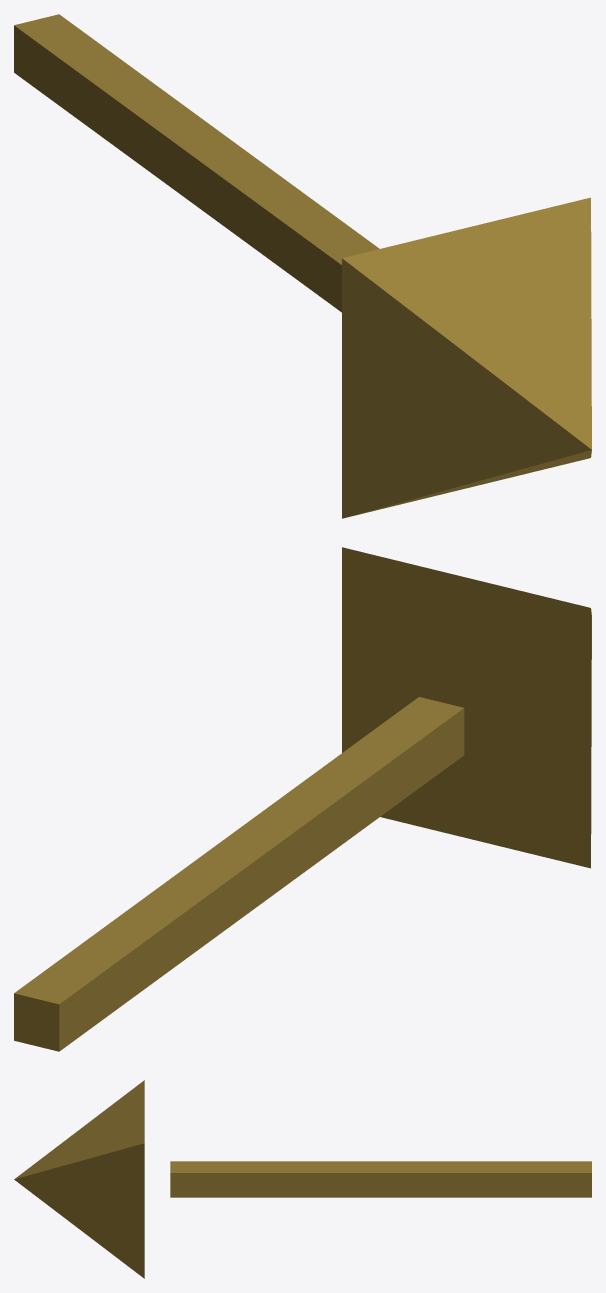
File: SM_LorienLeafLantern.obj
3 views of the same model, one above another, from view 1: azimuth 30°, elevation 25°; view 2: azimuth 150°, elevation 25°; view 3: azimuth 270°, elevation 25° (orthographic). The views are drawn at different scales.
Visible parts, largest first — view 1: SM_LorienLeafLantern; view 2: SM_LorienLeafLantern; view 3: SM_LorienLeafLantern.
Boxes of the visible parts, <box> form: SM_LorienLeafLantern: <box>14,14,591,518</box>; SM_LorienLeafLantern: <box>14,547,591,1051</box>; SM_LorienLeafLantern: <box>14,1080,591,1278</box>.
Size of the model in its own units: 55 by 55 by 212.
